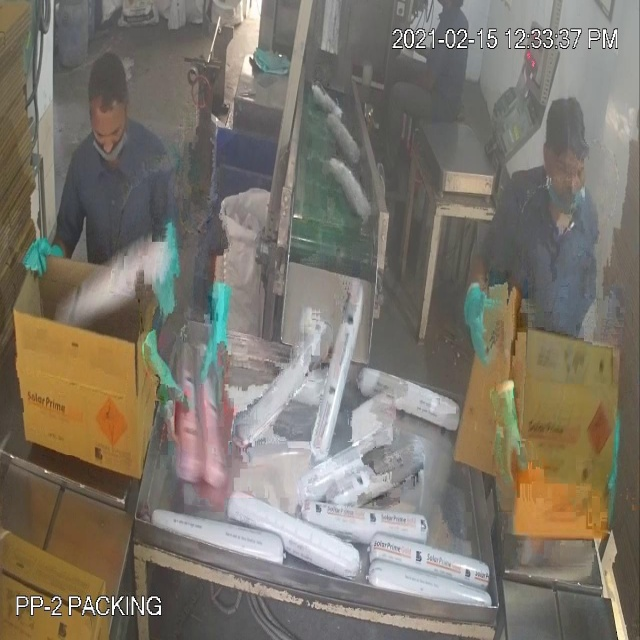Guantes: (463, 270, 504, 373), (22, 231, 73, 292)
Sin_guantes: (390, 27, 443, 111)
